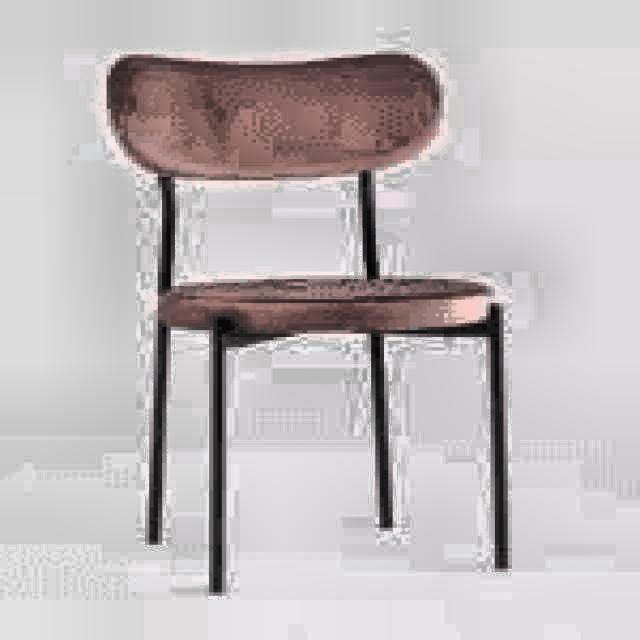cadeira: (100, 49, 524, 598), (146, 58, 518, 330)
